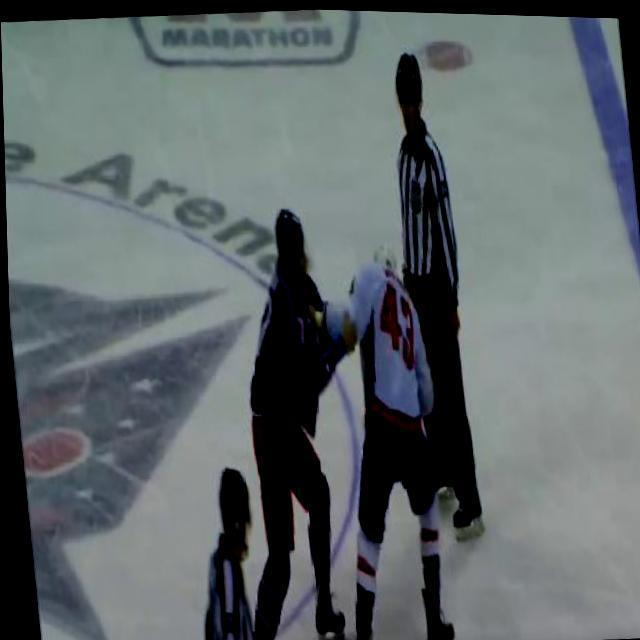fight: (224, 201, 458, 640)
